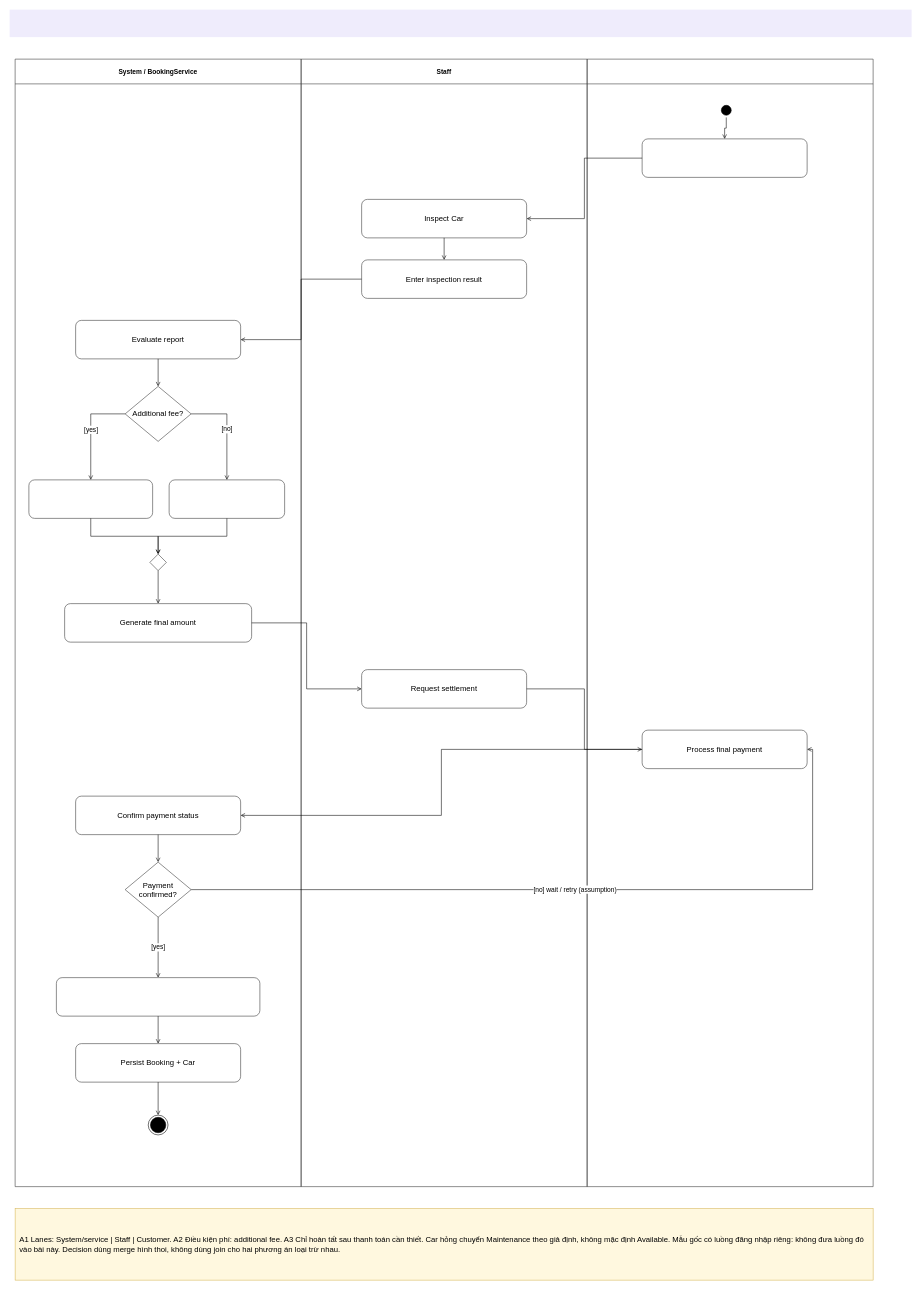
This 921x1290 diagram has some shape labels left out. The box of each missing label's shape, as (x1, y1, x2, y2) in pixels:
Additional fee = 0: (169, 479, 285, 518)
AutoGo · Q3 Return Car · Activity Level 2 – Design: (9, 9, 911, 37)
Booking.status = Completed Car.status = Available / Maintenance (inspection): (56, 977, 260, 1016)
Calculate additional fee: (28, 479, 153, 518)
Customer: (587, 59, 873, 1187)
Return Car: (642, 138, 807, 177)
